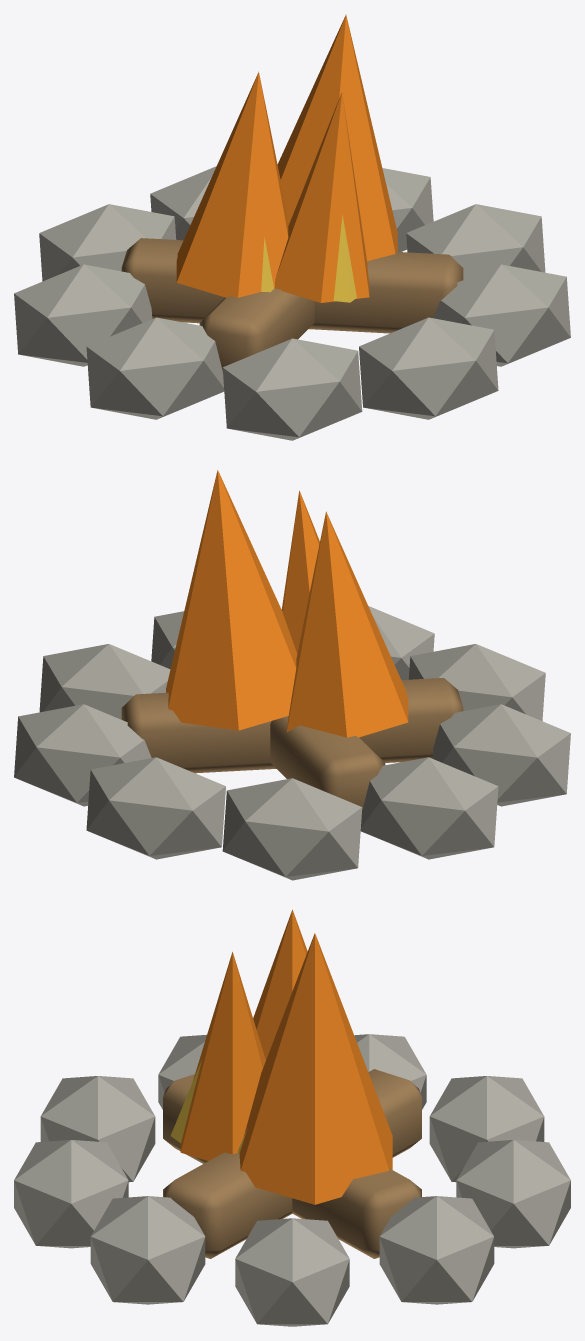
File: prop_campfire.glb
The picture shows the model from 3 angles, top to bottom: view 1: azimuth 30°, elevation 25°; view 2: azimuth 150°, elevation 25°; view 3: azimuth 270°, elevation 25°; orthographic projection. The views are drawn at different scales.
Visible parts, largest first — view 1: solid stylized flame, charred log, fire ring stone.006, fire ring stone.007, fire ring stone.005, solid stylized flame.001, solid stylized flame.002, fire ring stone.004, fire ring stone.008, fire ring stone, fire ring stone.003, charred log.001 (+3 smaller); view 2: solid stylized flame.001, solid stylized flame, charred log.001, fire ring stone.003, fire ring stone.002, fire ring stone.004, fire ring stone.005, fire ring stone.001, fire ring stone, fire ring stone.006, charred log, solid stylized flame.002 (+2 smaller); view 3: solid stylized flame.001, fire ring stone, fire ring stone.001, fire ring stone.008, solid stylized flame.002, charred log, fire ring stone.002, fire ring stone.007, fire ring stone.003, fire ring stone.006, charred log.001, solid stylized flame (+3 smaller).
Boxes of the visible parts, x1,y1,x2,y2 form: solid stylized flame: (176,71,289,297); charred log: (121,238,463,333); fire ring stone.006: (222,338,362,440); fire ring stone.007: (359,317,498,419); fire ring stone.005: (86,317,224,419); solid stylized flame.001: (277,14,397,261); solid stylized flame.002: (274,92,369,302); fire ring stone.004: (14,264,152,366); fire ring stone.008: (433,264,570,366); fire ring stone: (406,204,545,279); fire ring stone.003: (39,204,176,281); charred log.001: (199,288,314,371); solid stylized flame.001: (166,470,297,730); solid stylized flame: (287,511,408,737); charred log.001: (121,678,463,773); fire ring stone.003: (222,778,362,880); fire ring stone.002: (86,757,225,859); fire ring stone.004: (360,757,498,859); fire ring stone.005: (432,704,570,806); fire ring stone.001: (14,704,151,806); fire ring stone: (39,644,170,719); fire ring stone.006: (408,644,545,721); charred log: (270,716,385,810); solid stylized flame.002: (281,490,319,653); solid stylized flame.001: (239,933,392,1204); fire ring stone: (235,1218,349,1326); fire ring stone.001: (379,1196,494,1304); fire ring stone.008: (90,1196,205,1304); solid stylized flame.002: (180,952,265,1160); charred log: (163,1069,421,1258); fire ring stone.002: (456,1140,570,1248); fire ring stone.007: (14,1140,128,1248); fire ring stone.003: (429,1076,544,1182); fire ring stone.006: (40,1076,155,1182); charred log.001: (163,1074,421,1258); solid stylized flame: (253,909,307,1059).
Size of the model in its own units: 0.7966 by 0.49 by 0.744.
